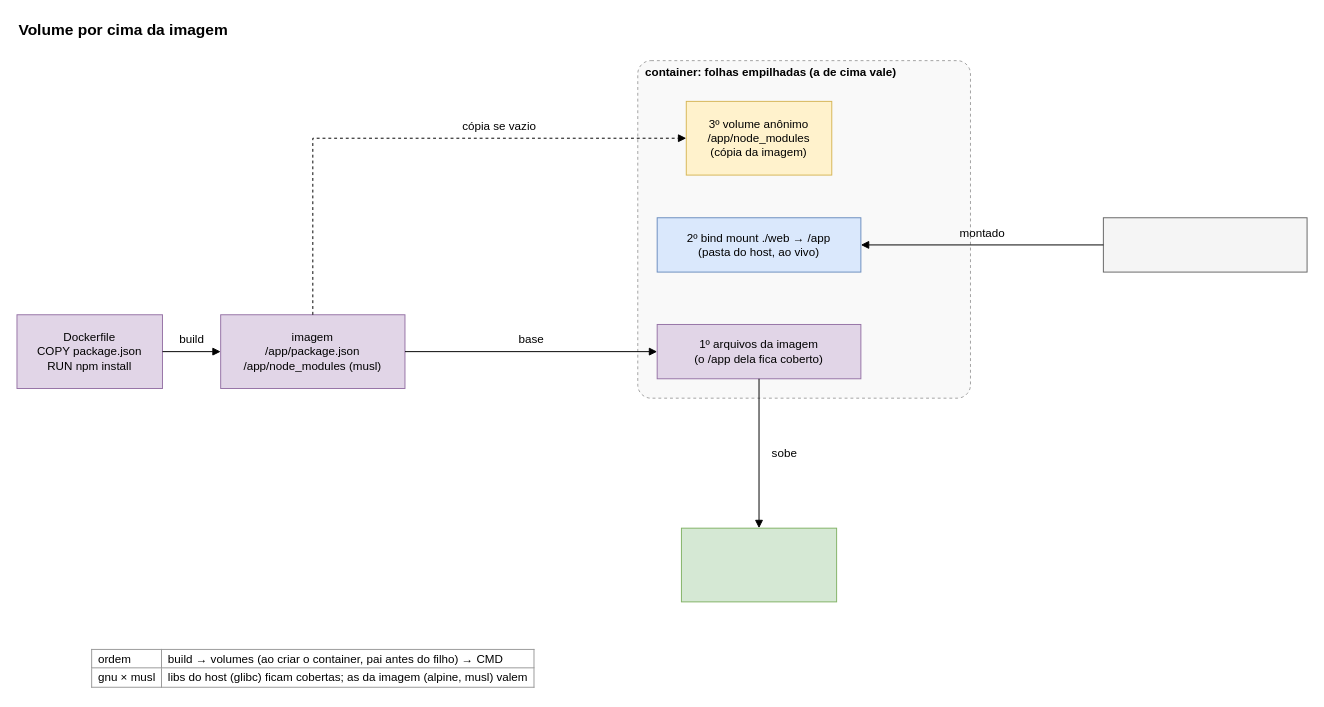
Some shapes in this 1324 by 707 pixel diagram are drawn without their labels. Each missing label, with the box of its shape:
CMD npm run dev vê a folha de cima: (680, 527, 837, 602)
host ./web código + node_modules (gnu): (1102, 217, 1307, 272)
